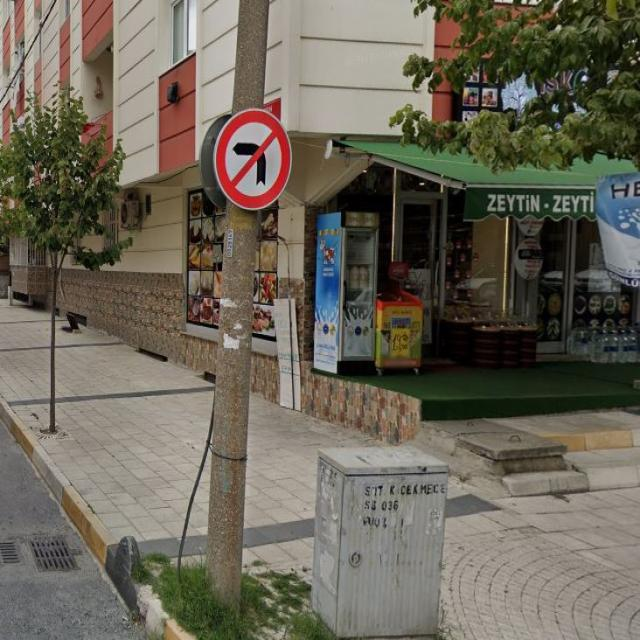soladonulmez: (213, 108, 292, 208)
